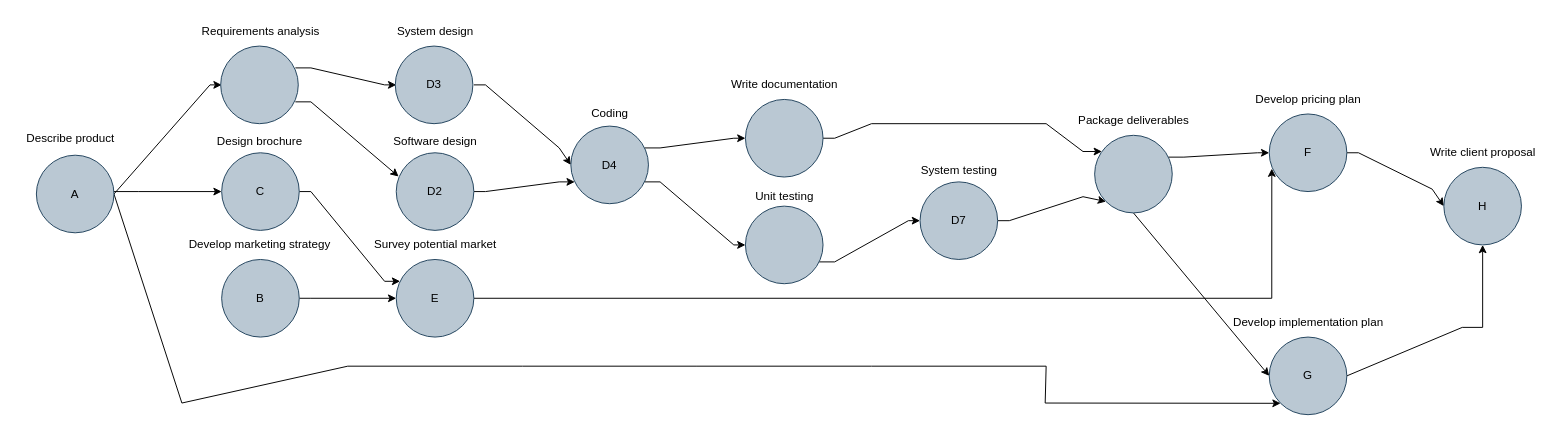
This 1562x432 diagram has some shape labels left out. The shapes that lost their labels are listed below. From the top down, each one's centre as x and y in pixels, then its label:
At pixel 259 84: "D1".
At pixel 783 137: "D5".
At pixel 1133 173: "D8".
At pixel 783 244: "D6".
